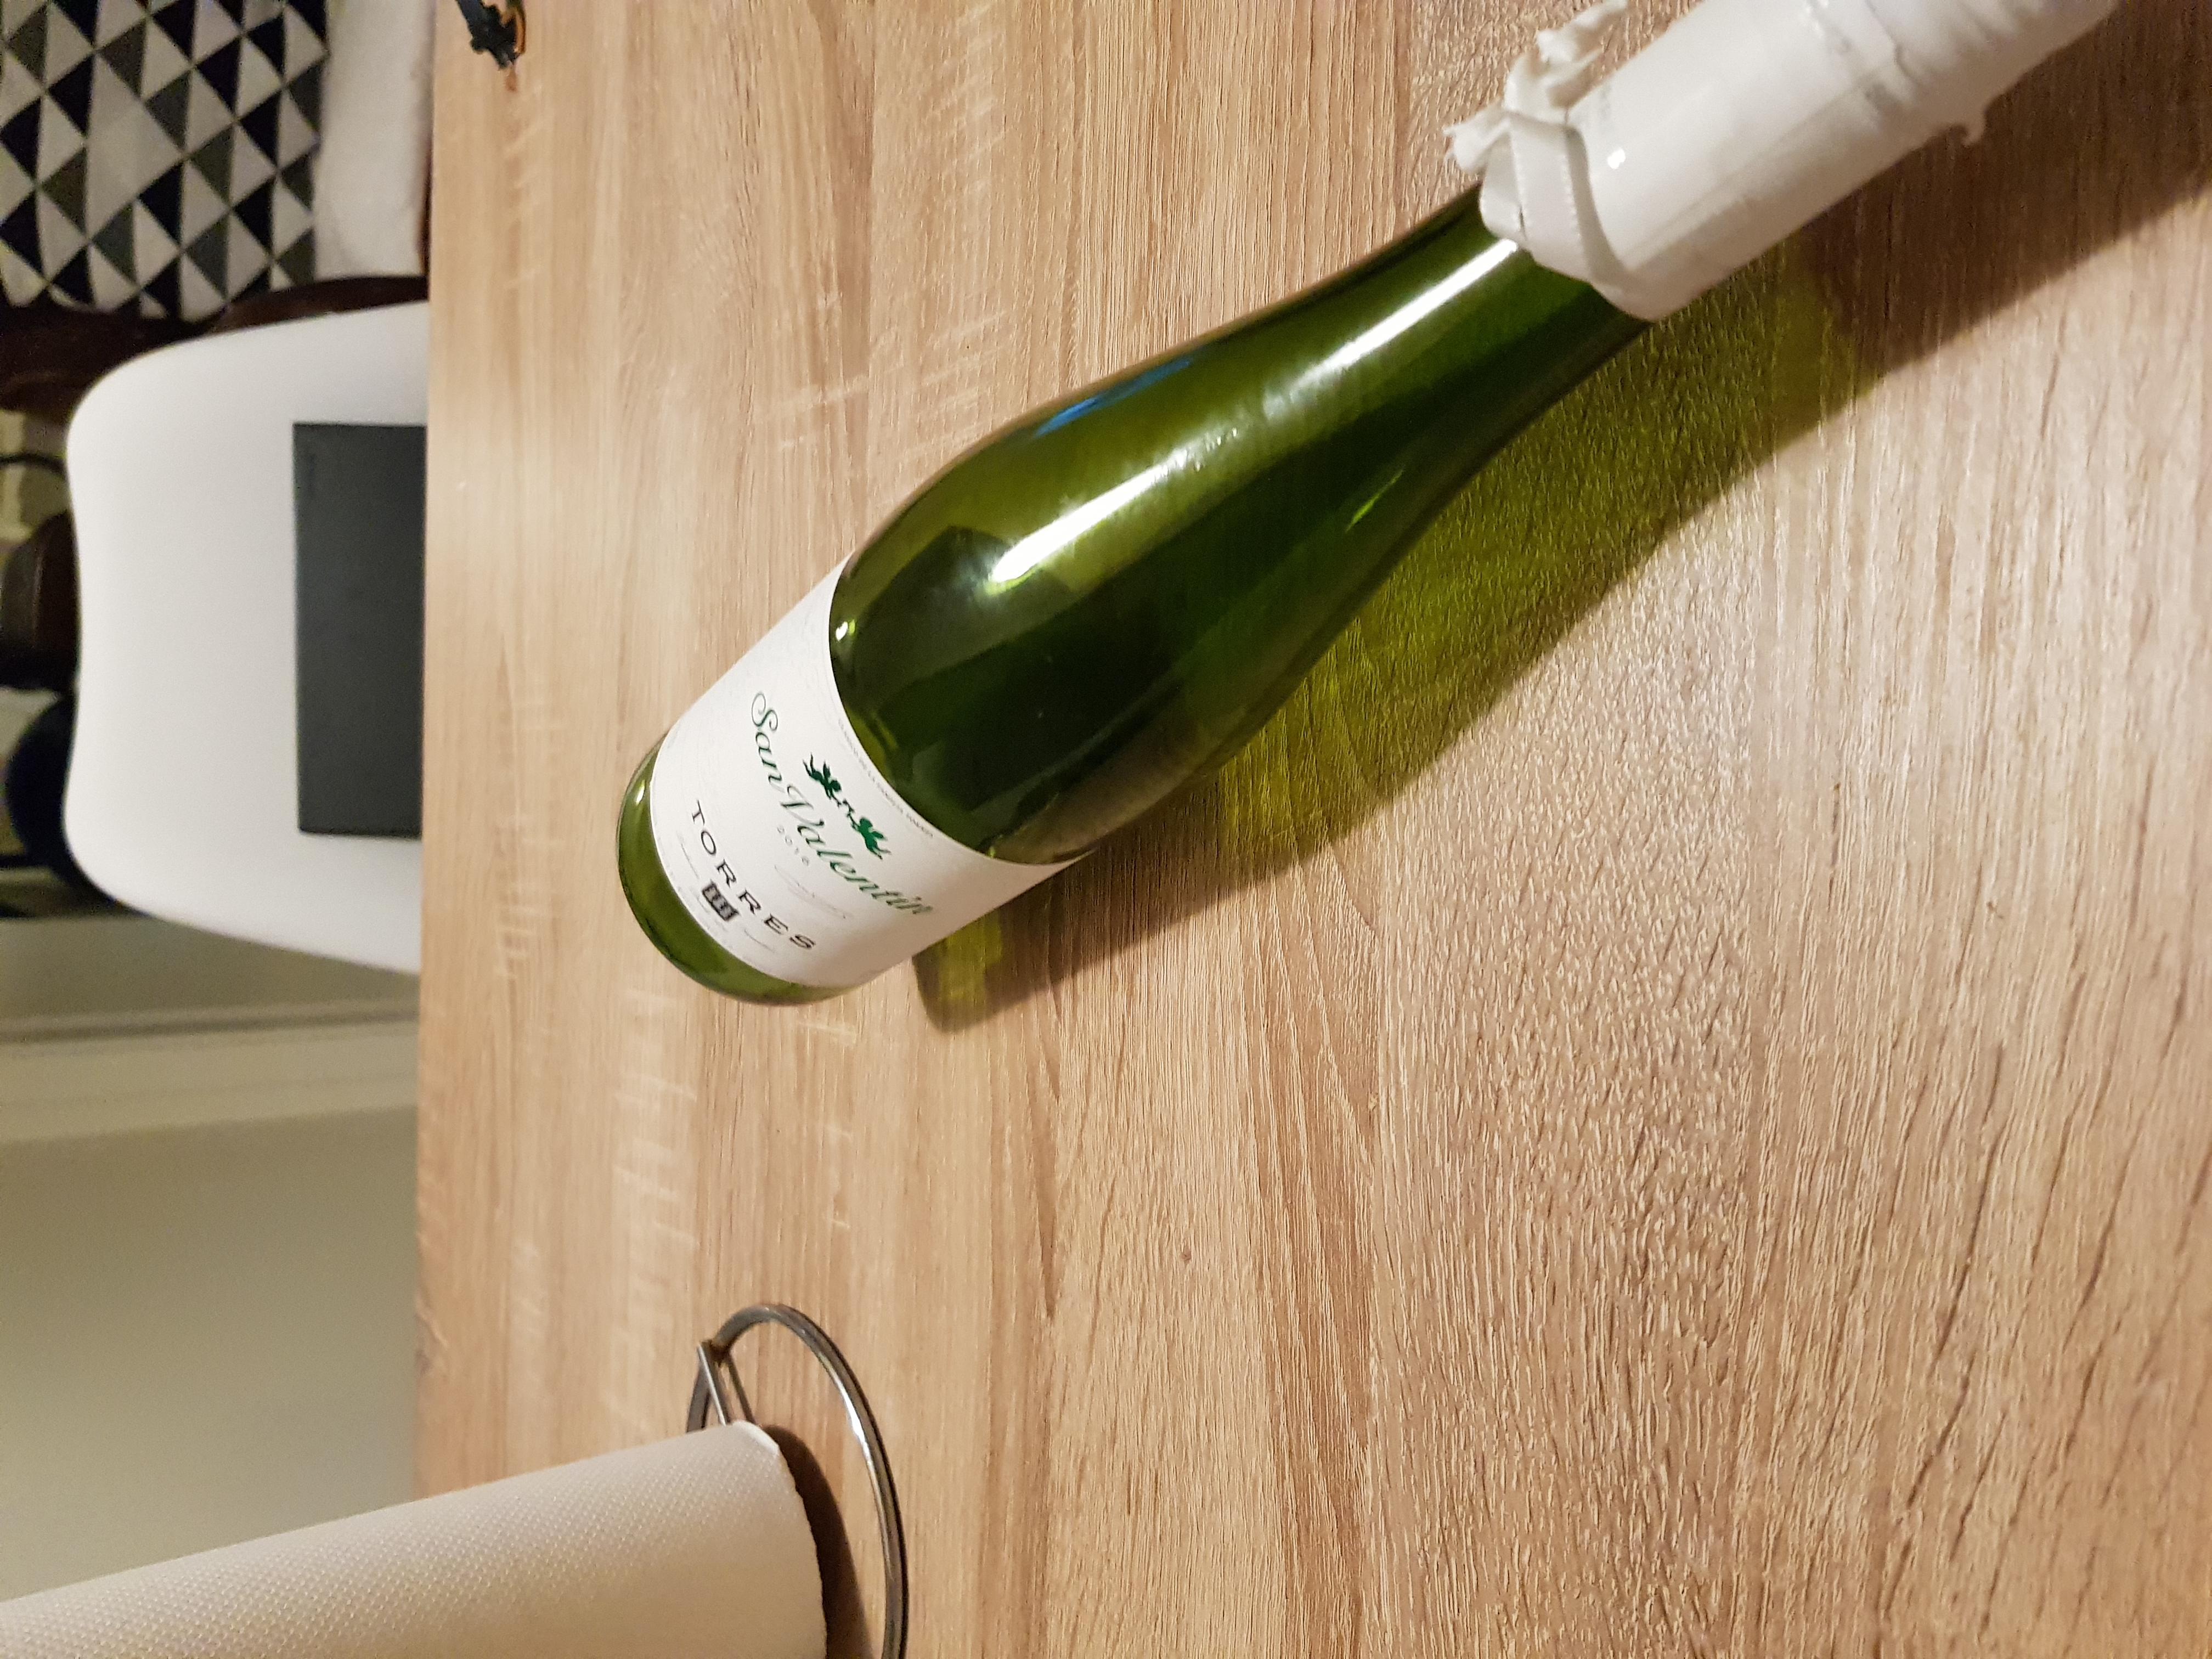Bottle: (617, 0, 2116, 1006)
